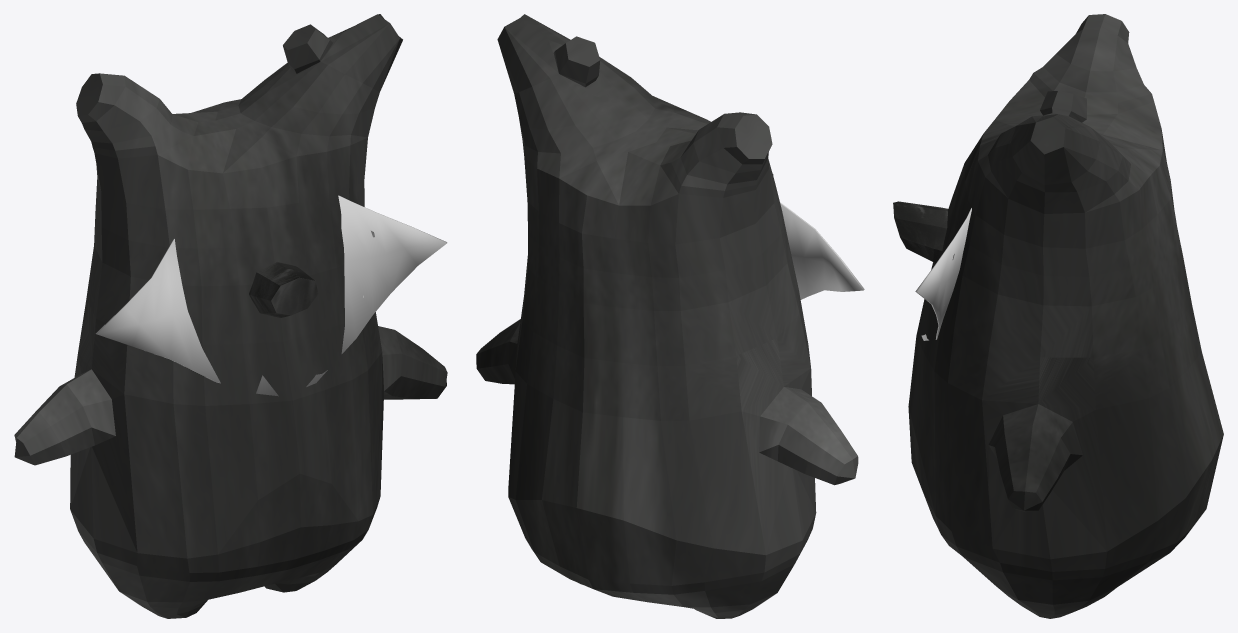
File: frame_0144.obj
The picture shows the model from 3 angles, left to right: view 1: azimuth 30°, elevation 25°; view 2: azimuth 150°, elevation 25°; view 3: azimuth 270°, elevation 25°; orthographic projection.
Parts seen in each view (by area): view 1: korok, leaf, nose; view 2: korok, leaf; view 3: korok, nose, leaf.
Boxes of the visible parts, <box> form: korok: <box>14,14,447,618</box>; leaf: <box>96,195,447,396</box>; nose: <box>249,262,318,317</box>; korok: <box>476,14,858,618</box>; leaf: <box>780,202,864,299</box>; korok: <box>908,14,1223,618</box>; nose: <box>893,201,947,262</box>; leaf: <box>915,208,971,340</box>.
Bounding box in the file's own units: 1.7 × 2.21 × 1.22.
